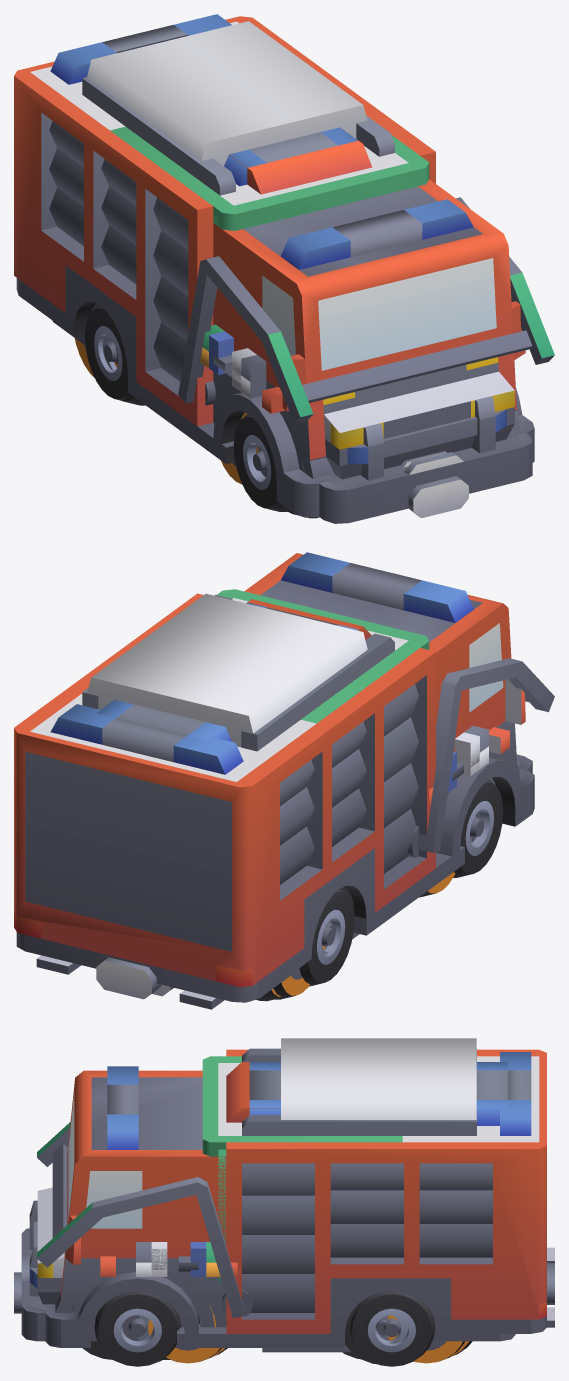
File: vehicles.glb
The picture shows the model from 3 angles, top to bottom: view 1: azimuth 30°, elevation 25°; view 2: azimuth 150°, elevation 25°; view 3: azimuth 270°, elevation 25°; orthographic projection. The views are drawn at different scales.
Parts seen in each view (by area): view 1: body (×4), arm, grill, wheel-front-right, wheel-back-right; view 2: body (×4), arm, wheel-back-right (×2), wheel-front-right; view 3: body (×10), arm, wheel-back-left (×3), wheel-front-left (×2), grill.
Boxes of the visible parts, x1,y1,x2,y2 form: body (×4): [14, 14, 534, 523]; arm: [178, 197, 554, 423]; grill: [328, 396, 519, 485]; wheel-front-right: [233, 414, 288, 511]; wheel-back-right: [85, 305, 130, 400]; body (×4): [14, 552, 534, 1009]; arm: [407, 658, 554, 857]; wheel-back-right (×2): [272, 889, 354, 999]; wheel-front-right: [453, 780, 503, 877]; body (×10): [14, 1038, 554, 1352]; arm: [37, 1122, 253, 1318]; wheel-back-left (×3): [345, 1291, 464, 1366]; wheel-front-left (×2): [94, 1291, 221, 1366]; grill: [22, 1200, 45, 1309].
Bounding box in the file's own units: 1.6 × 1.8 × 3.45.
1 material, 1 textured.
